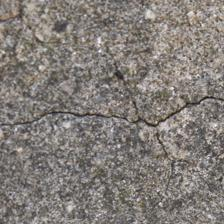Crack: (16, 40, 123, 168), (63, 34, 158, 97), (21, 36, 54, 114)
